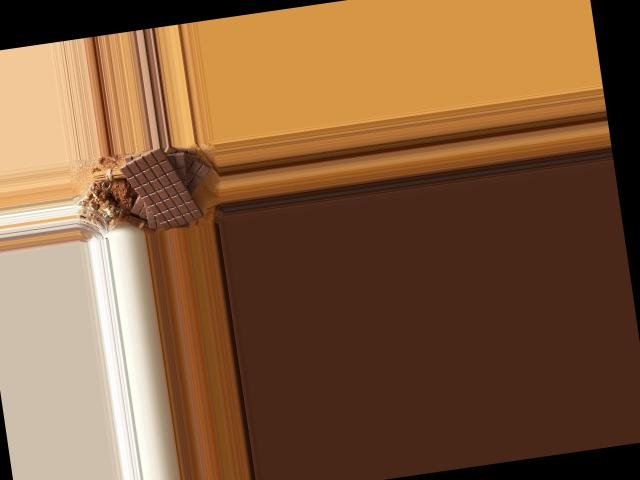chocolate: (113, 143, 205, 233)
